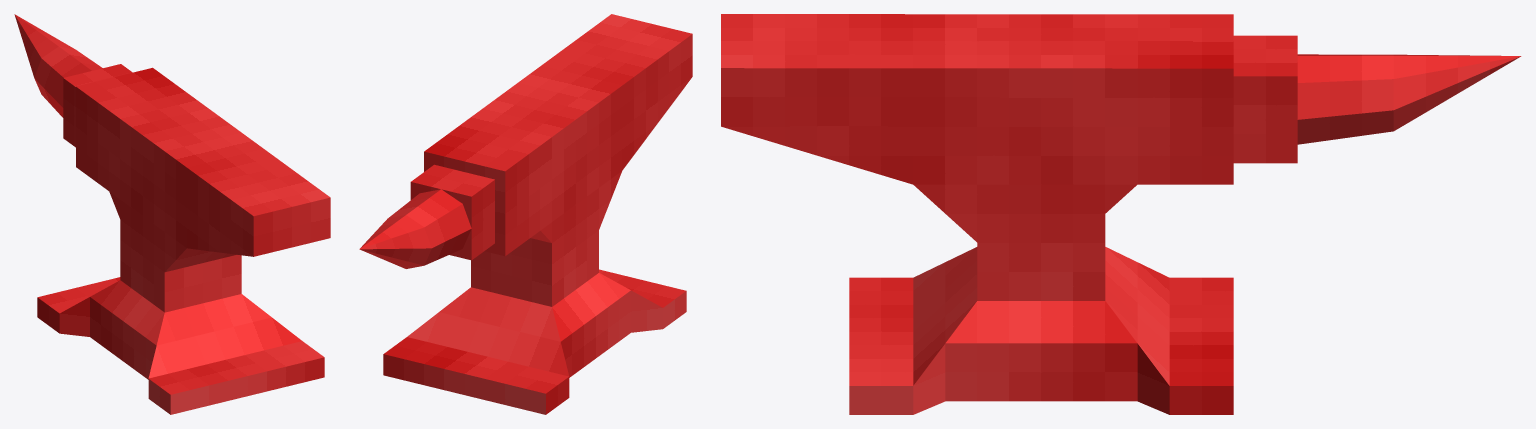
Rendered from desh_anvil.obj.
3 renders of one model, left to right at view 1: azimuth 30°, elevation 25°; view 2: azimuth 150°, elevation 25°; view 3: azimuth 270°, elevation 25°, orthographic. The views are drawn at different scales.
Visible parts, largest first — view 1: Left, Top, Back; view 2: Left, Top, Front; view 3: Right, Top, Front, Back.
Part boxes in pixels (box(x1,y1,x2,y2)): Left: box(15, 15, 253, 414); Top: box(14, 14, 330, 394); Back: box(148, 197, 330, 414); Left: box(360, 34, 692, 414); Top: box(360, 14, 692, 393); Front: box(383, 151, 569, 414); Right: box(721, 56, 1520, 414); Top: box(721, 14, 1520, 385); Front: box(1105, 247, 1169, 385); Back: box(913, 247, 977, 385).
Size of the model in its own units: 0.5 by 0.6885 by 1.56.
